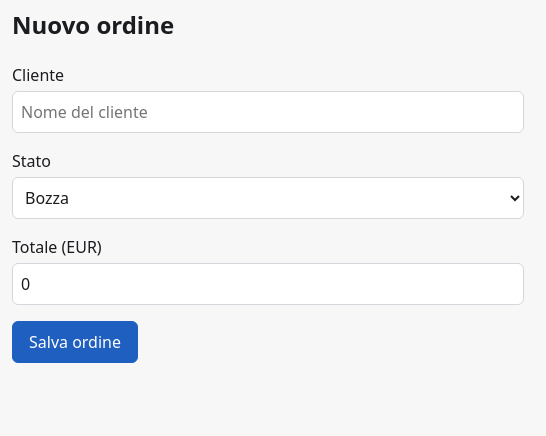
Test: OrderEditor field permissions (operator) › server fieldErrors land on their fields (translated, never raw)
In the field labelled "Cliente": (268, 112) [12,91,524,133], type "ACME"
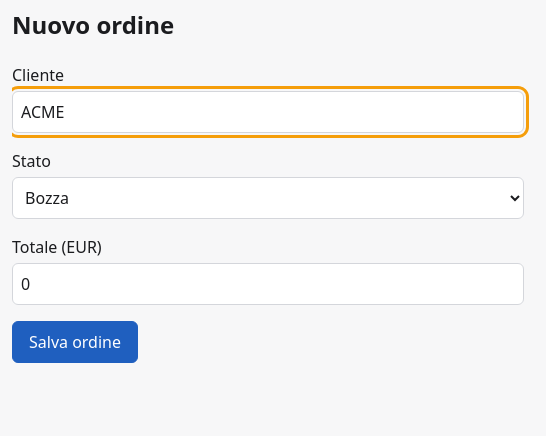
Click the button "Salva ordine": (75, 342) [12,321,138,363]
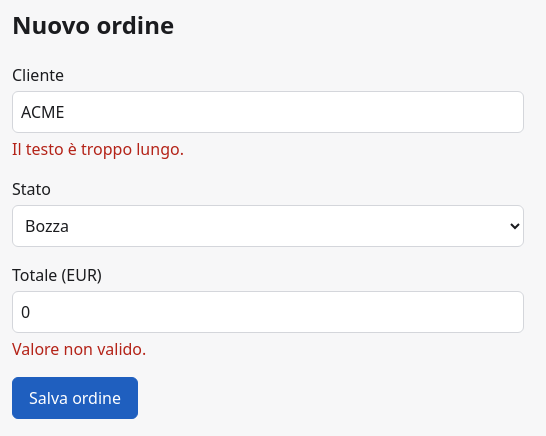
Expected: the text "Il testo è troppo lungo." is shown, [12,138,184,160]
Expected: the text "Valore non valido." is shown, [12,338,146,360]
